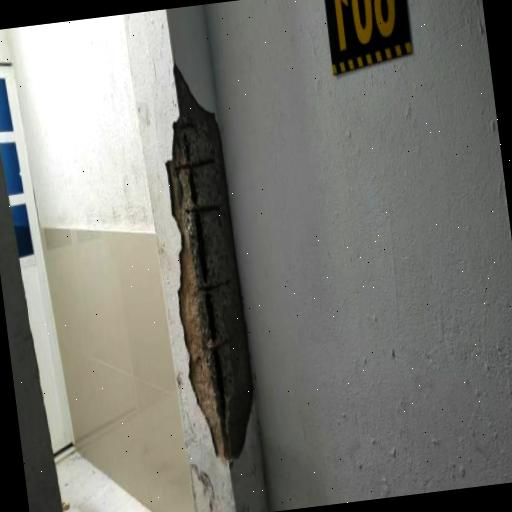spalling: (173, 80, 250, 451)
